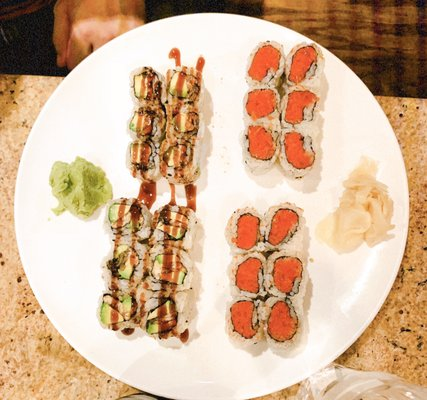pizza: (284, 132, 314, 169), (236, 214, 260, 250)
